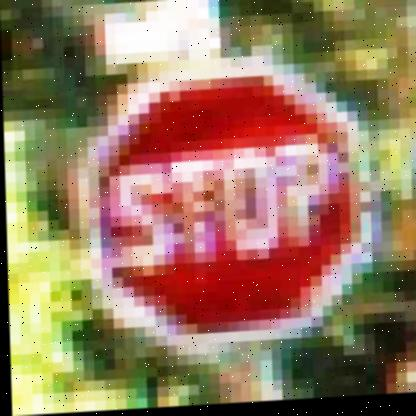Stop Sign: (80, 61, 375, 354)
